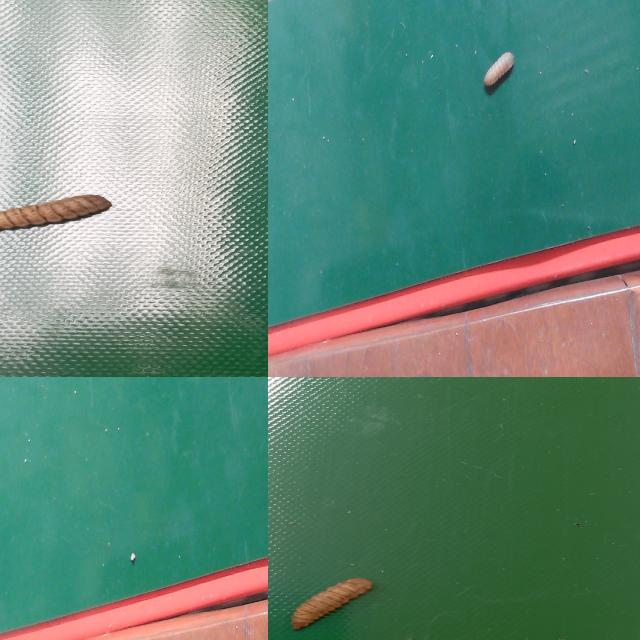Maggot: (0, 195, 112, 234), (291, 578, 373, 631), (481, 51, 516, 95)
